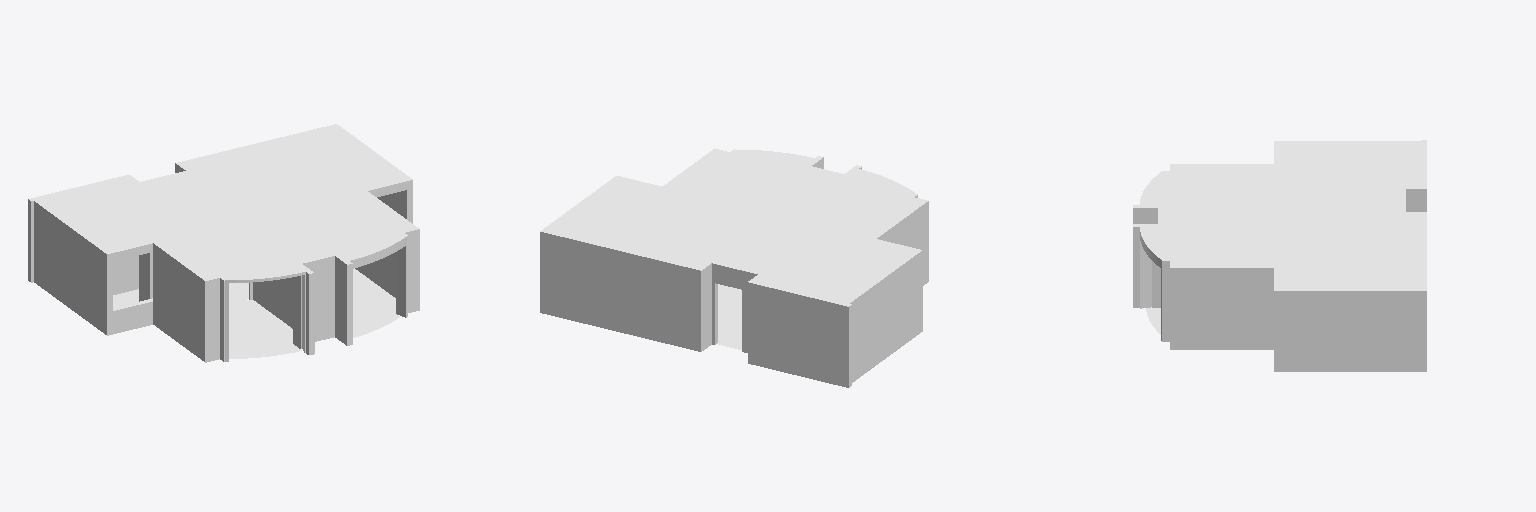
The model's file is render.obj.
3 views of the same model, side by side, from view 1: azimuth 30°, elevation 25°; view 2: azimuth 150°, elevation 25°; view 3: azimuth 270°, elevation 25° (orthographic).
Parts seen in each view (by area): view 1: room_1_254, room_5_262, room_4_260, wall_35_206, wall_33_197, room_3_258, room_5_261, wall_32_191, room_2_256, room_1_253, wall_3_17, wall_29_173 (+13 smaller); view 2: room_1_254, wall_26_155, wall_37_221, room_5_262, room_4_260, wall_27_161, wall_33_197, room_3_258, room_2_256, wall_32_191, wall_35_206, room_1_253 (+3 smaller); view 3: room_1_254, wall_2_11, wall_40_236, room_5_262, room_4_260, room_3_258, room_2_256, wall_30_176, wall_11_62, wall_31_182.
Part boxes in pixels (x1,y1,x2,y2): room_1_254: (141,152,409,258); room_5_262: (149,218,307,277); room_4_260: (242,127,403,192); wall_35_206: (153,243,204,361); wall_33_197: (66,225,106,334); room_3_258: (74,197,206,250); room_5_261: (229,300,301,358); wall_32_191: (34,201,65,304); room_2_256: (39,178,157,220); room_1_253: (229,268,399,337); wall_3_17: (107,243,152,335); wall_29_173: (315,256,334,341); room_1_254: (647,152,824,272); wall_26_155: (540,232,640,336); wall_37_221: (752,283,842,386); room_5_262: (776,171,918,244); room_4_260: (549,179,700,252); wall_27_161: (641,256,700,351); wall_33_197: (881,250,922,361); room_3_258: (768,232,913,277); room_2_256: (757,259,873,301); wall_32_191: (850,281,880,382); wall_35_206: (877,201,928,285); room_1_253: (717,284,741,349); room_1_254: (1146,188,1420,265); wall_2_11: (1274,291,1423,371); wall_40_236: (1170,268,1273,349); room_5_262: (1146,166,1295,212); room_4_260: (1280,242,1420,287); room_3_258: (1280,144,1353,196); room_2_256: (1361,144,1420,186); wall_30_176: (1146,254,1160,307); wall_11_62: (1162,261,1169,341); wall_31_182: (1133,227,1139,307).
Size of the model in its own units: 1112 by 280 by 918.